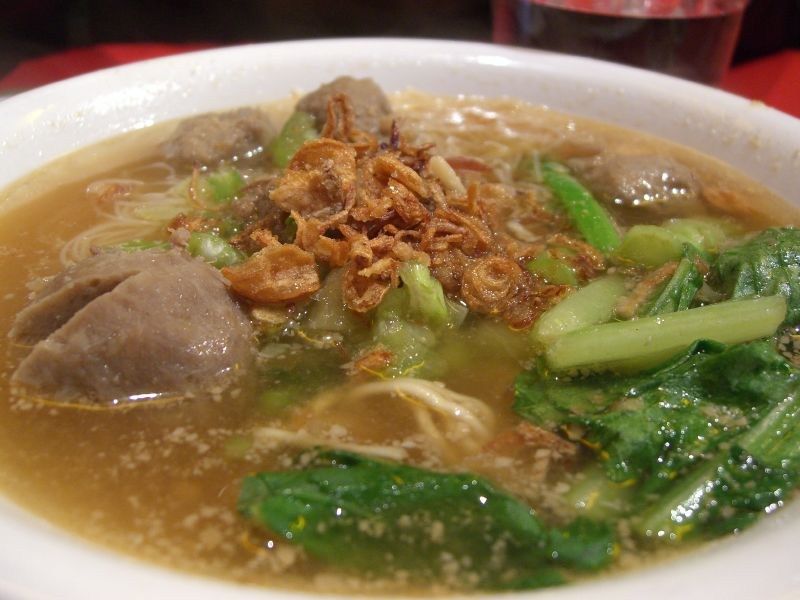Bakso: (67, 19, 738, 526)
